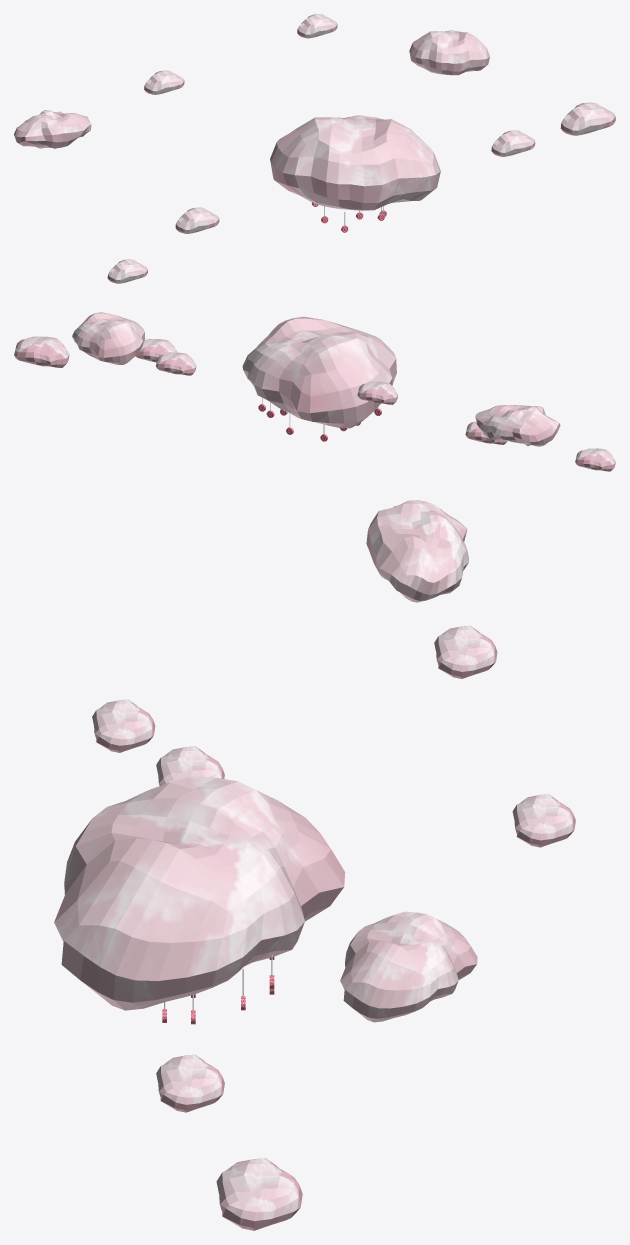
File: Nubes.obj
3 views of the same model, one above another, from view 1: azimuth 30°, elevation 25°; view 2: azimuth 150°, elevation 25°; view 3: azimuth 270°, elevation 25° (orthographic). The views are drawn at different scales.
Parts seen in each view (by area): view 1: MeshpolySurface31, polySurface35Mesh, MeshpolySurface29, MeshpolySurface30, pasted__MeshpolySurface34 group145, MeshpolySurface34, MeshpolySurface32, pasted__pasted__MeshpolySurface32 pasted__group144 group146, pasted__MeshpolySurface32 group144; view 2: MeshpolySurface31, polySurface35Mesh, MeshpolySurface29, MeshpolySurface30, pasted__MeshpolySurface32 group144, pasted__pasted__MeshpolySurface32 pasted__group144 group146, MeshpolySurface32, pasted__MeshpolySurface34 group145, MeshpolySurface34; view 3: MeshpolySurface31, polySurface35Mesh, MeshpolySurface29, MeshpolySurface30, pasted__MeshpolySurface34 group145, pasted__MeshpolySurface32 group144, pasted__pasted__MeshpolySurface32 pasted__group144 group146, MeshpolySurface32, MeshpolySurface34.
Boxes of the visible parts, bbox=[...] form: MeshpolySurface31: bbox=[270, 115, 440, 210]; polySurface35Mesh: bbox=[409, 30, 489, 75]; MeshpolySurface29: bbox=[14, 110, 91, 148]; MeshpolySurface30: bbox=[560, 102, 615, 135]; pasted__MeshpolySurface34 group145: bbox=[491, 130, 535, 156]; MeshpolySurface34: bbox=[175, 207, 219, 233]; MeshpolySurface32: bbox=[107, 259, 147, 283]; pasted__pasted__MeshpolySurface32 pasted__group144 group146: bbox=[297, 14, 337, 38]; pasted__MeshpolySurface32 group144: bbox=[144, 70, 184, 94]; MeshpolySurface31: bbox=[242, 316, 396, 428]; polySurface35Mesh: bbox=[72, 312, 145, 364]; MeshpolySurface29: bbox=[475, 405, 560, 446]; MeshpolySurface30: bbox=[14, 336, 69, 367]; pasted__MeshpolySurface32 group144: bbox=[357, 381, 398, 404]; pasted__pasted__MeshpolySurface32 pasted__group144 group146: bbox=[156, 352, 196, 375]; MeshpolySurface32: bbox=[575, 448, 615, 471]; pasted__MeshpolySurface34 group145: bbox=[135, 339, 177, 362]; MeshpolySurface34: bbox=[465, 421, 507, 444]; MeshpolySurface31: bbox=[54, 776, 345, 1010]; polySurface35Mesh: bbox=[340, 911, 477, 1022]; MeshpolySurface29: bbox=[366, 500, 468, 602]; MeshpolySurface30: bbox=[216, 1158, 302, 1230]; pasted__MeshpolySurface34 group145: bbox=[156, 1054, 224, 1112]; pasted__MeshpolySurface32 group144: bbox=[434, 625, 497, 678]; pasted__pasted__MeshpolySurface32 pasted__group144 group146: bbox=[512, 794, 575, 847]; MeshpolySurface32: bbox=[92, 699, 155, 752]; MeshpolySurface34: bbox=[156, 746, 224, 785].
Size of the model in its own units: 28.36 by 6.08 by 11.55.
30 materials, 30 textured.
